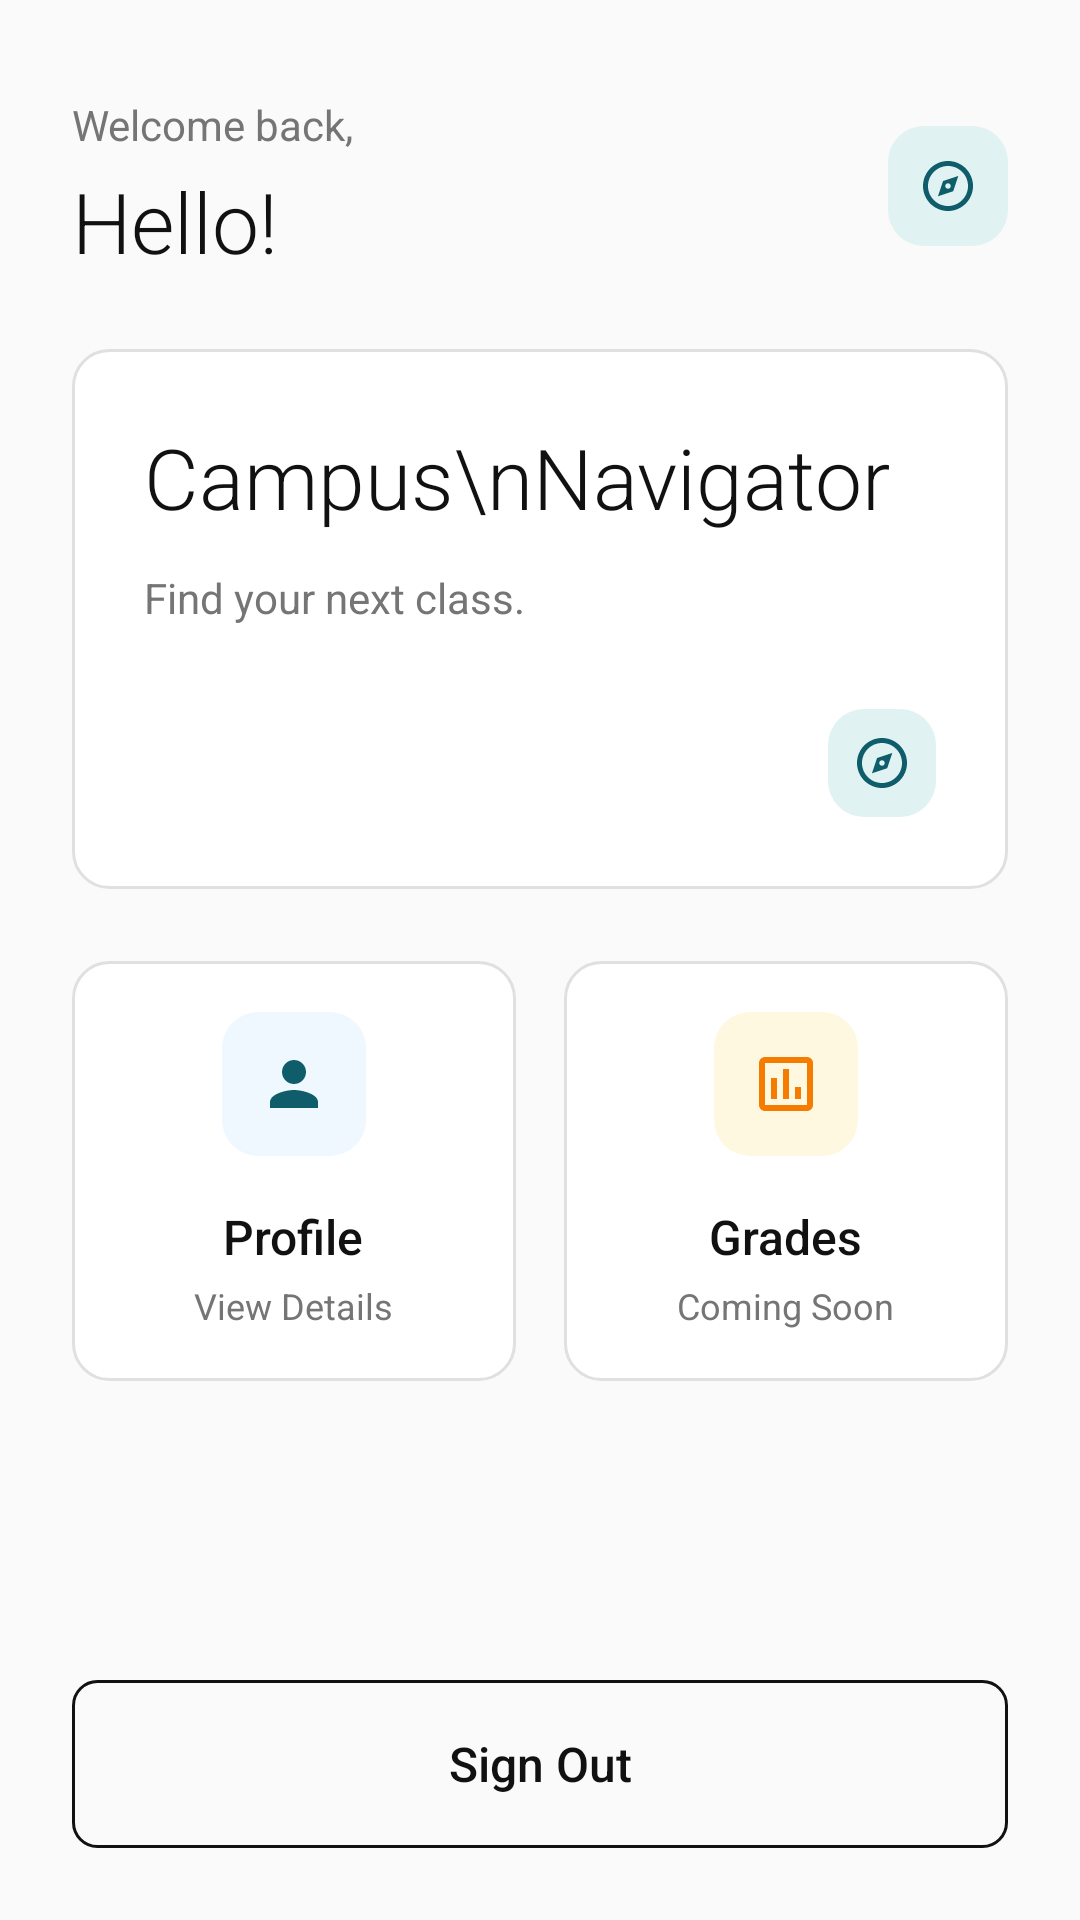

Screen size 1080*1920. Icon name, then its center in pixels as (x=x, y=y):
modern compass: (x=948, y=186), (x=882, y=763)
modern person: (x=294, y=1084)
